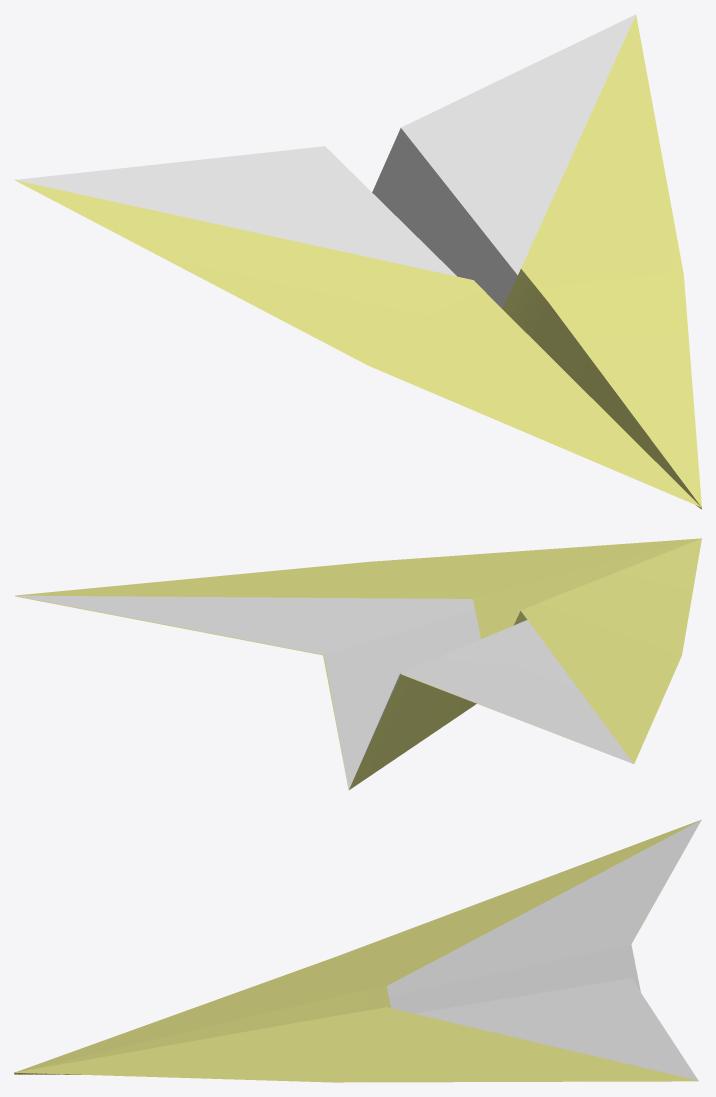
The model's file is PaperAirplane.fbx.
3 views of the same model, one above another, from view 1: azimuth 30°, elevation 25°; view 2: azimuth 150°, elevation 25°; view 3: azimuth 270°, elevation 25° (orthographic). The views are drawn at different scales.
Visible parts, largest first — view 1: PaperAirplane; view 2: PaperAirplane; view 3: PaperAirplane.
Boxes of the visible parts, left/top/right/bottom form: PaperAirplane: left=14, top=14, right=701, bottom=509; PaperAirplane: left=15, top=538, right=701, bottom=790; PaperAirplane: left=14, top=819, right=701, bottom=1082.
Bounding box in the file's own units: 15 × 3.36 × 15.82.
